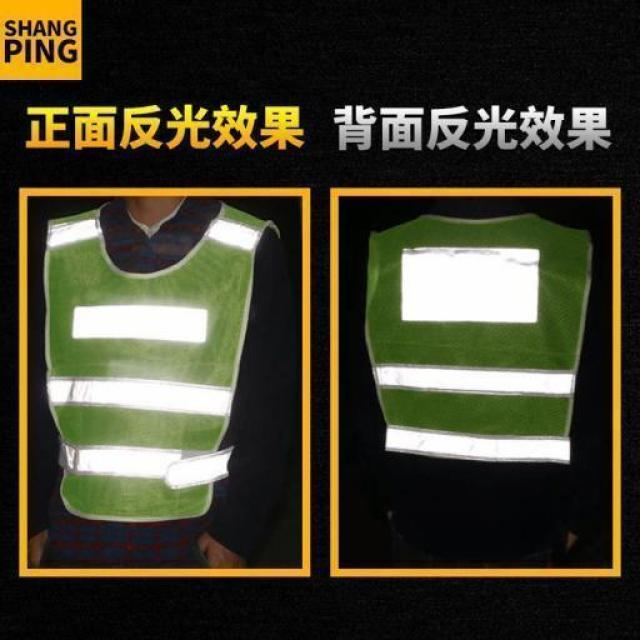vest: (49, 206, 278, 524), (358, 210, 592, 476)
